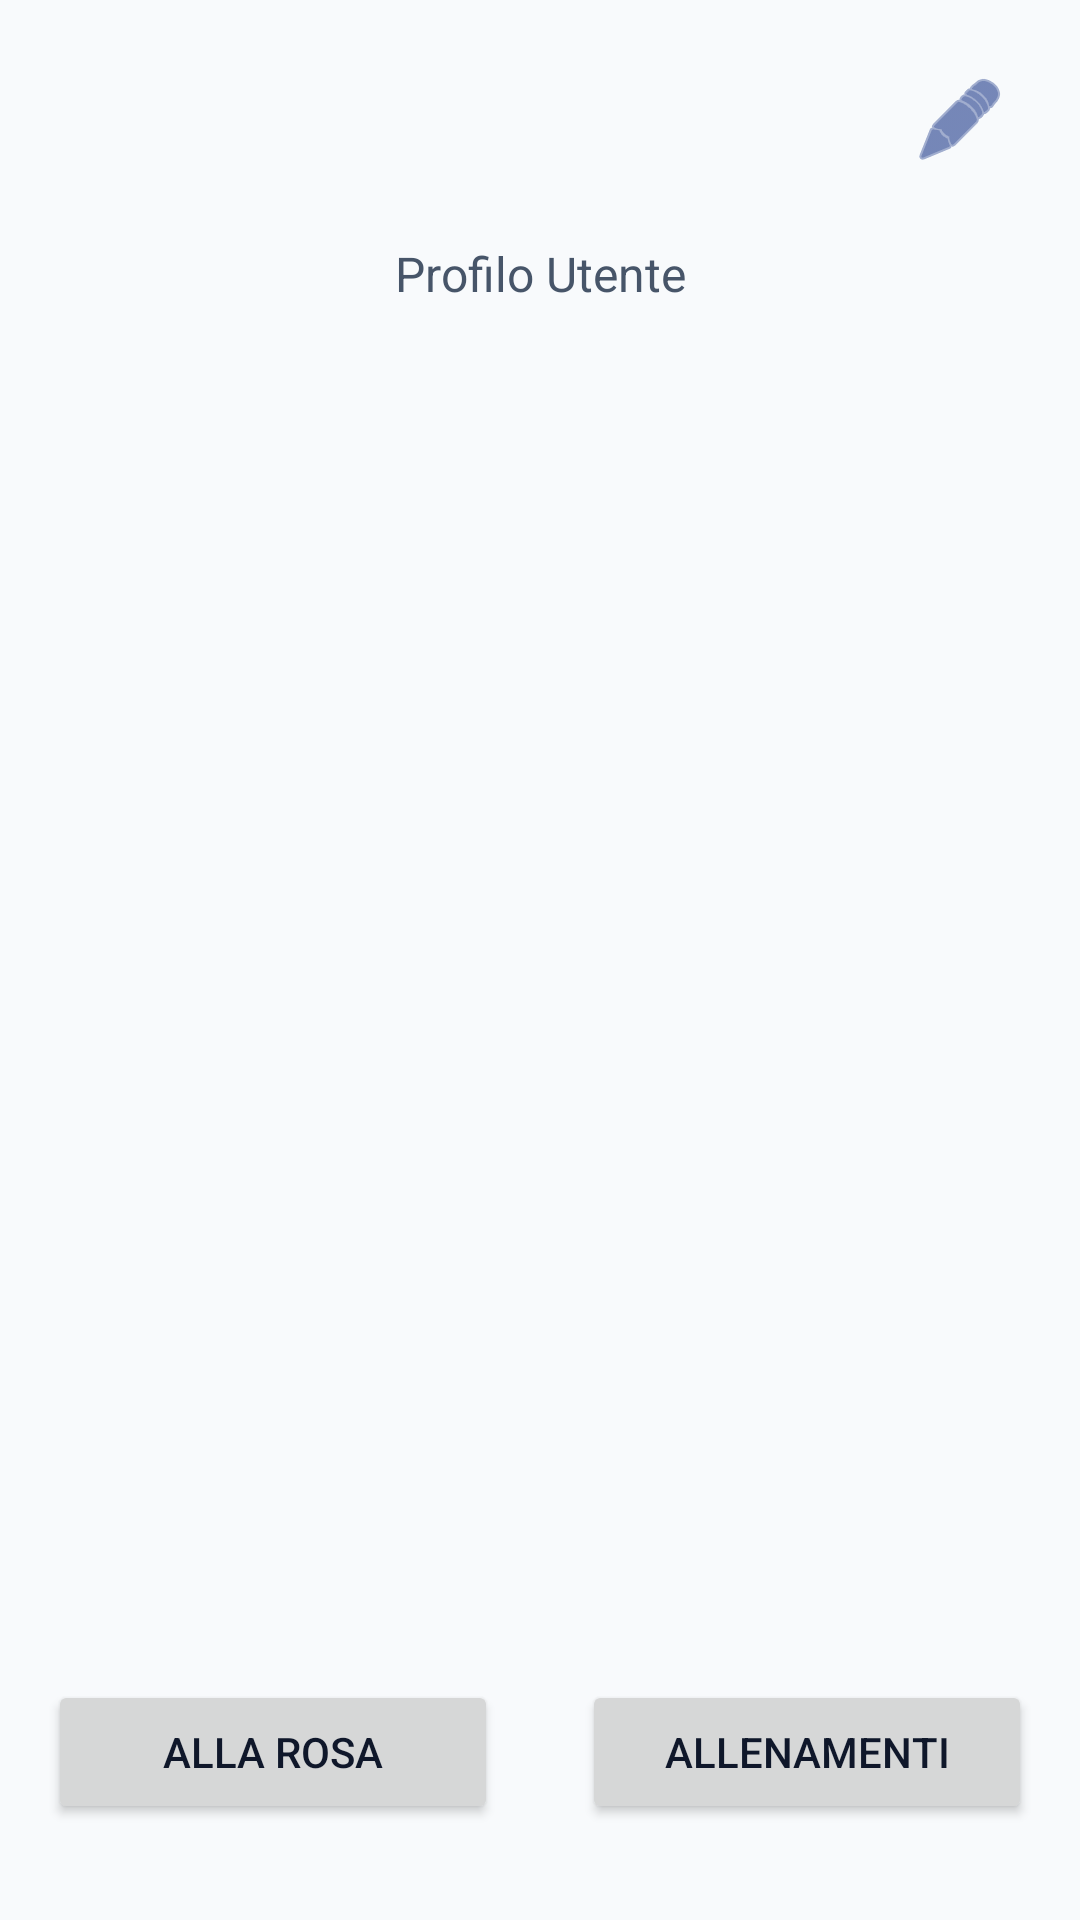

Icon click points for this 1080*1920 phone screenshot, format (x=x, y=y):
edit: (x=959, y=119)
